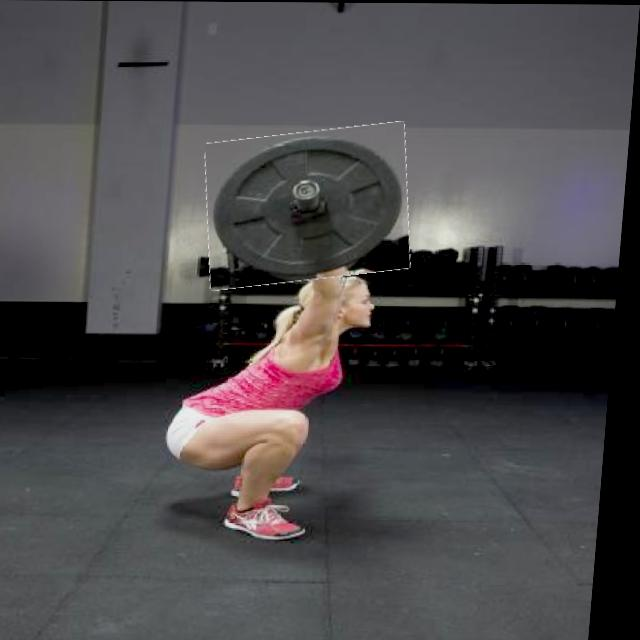barbell: (204, 126, 421, 287)
